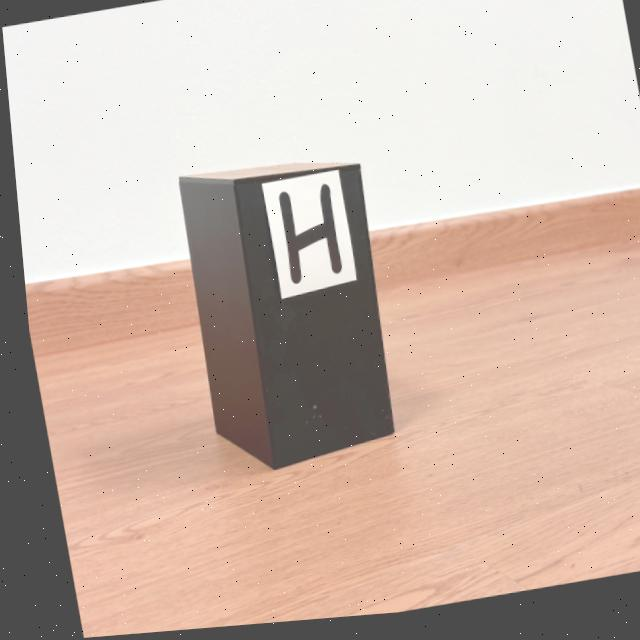H: (274, 189, 336, 289)
